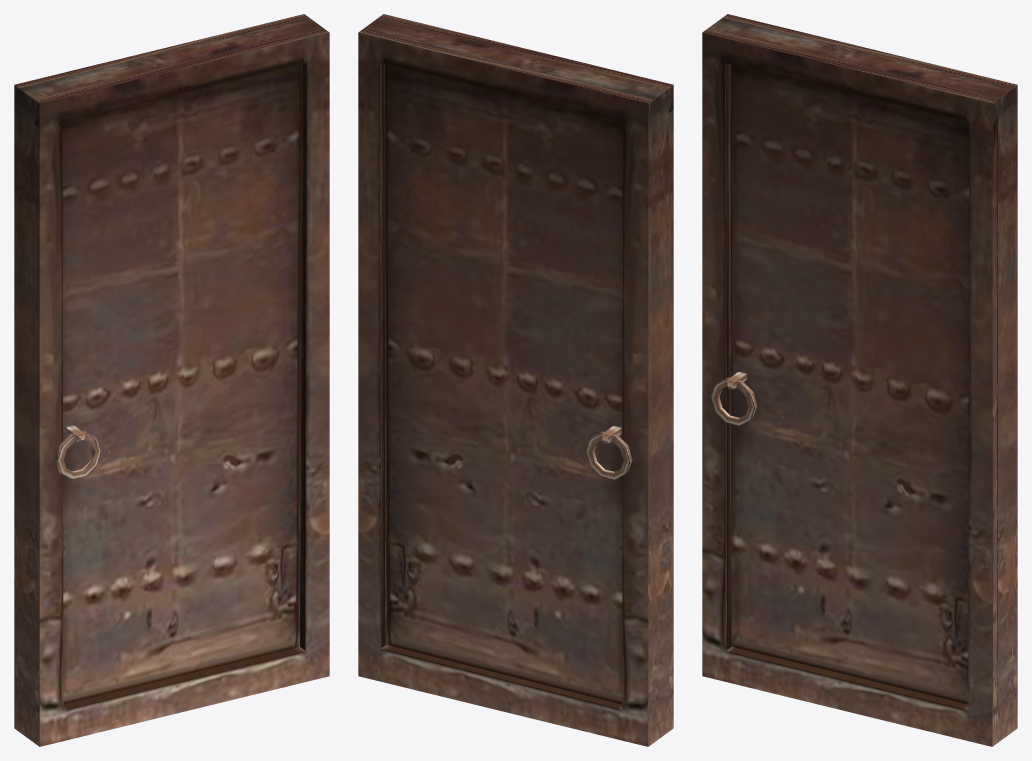
File: doors2.fbx
The picture shows the model from 3 angles, left to right: view 1: azimuth 30°, elevation 25°; view 2: azimuth 150°, elevation 25°; view 3: azimuth 330°, elevation 25°; orthographic projection.
Visible parts, largest first — view 1: door_2; view 2: door_2; view 3: door_2.
Part boxes in pixels (x1,y1,x2,y2): door_2: (14,14,329,746); door_2: (358,14,673,746); door_2: (702,14,1017,746).
Size of the model in its own units: 1.11 by 2.35 by 0.2857.
